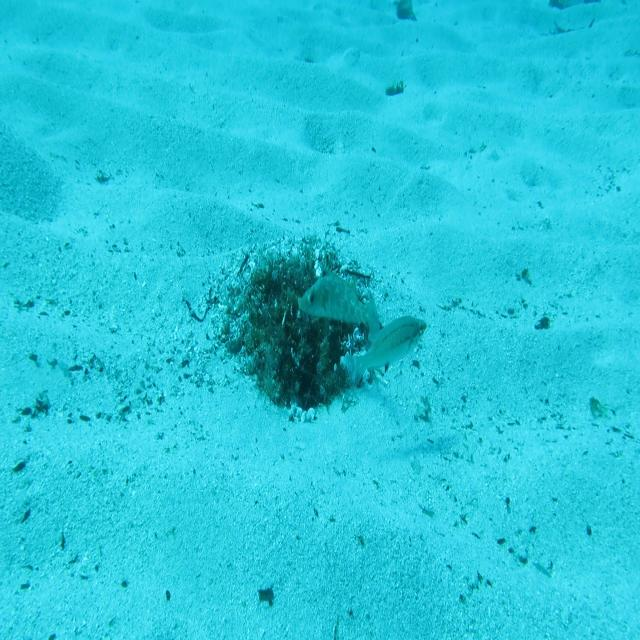LF: (297, 264, 381, 338)
core_nest: (272, 264, 330, 301)
female: (343, 314, 428, 396)
nest: (205, 222, 388, 430)
vegetation: (394, 1, 418, 25), (384, 77, 408, 100), (259, 588, 275, 609)
